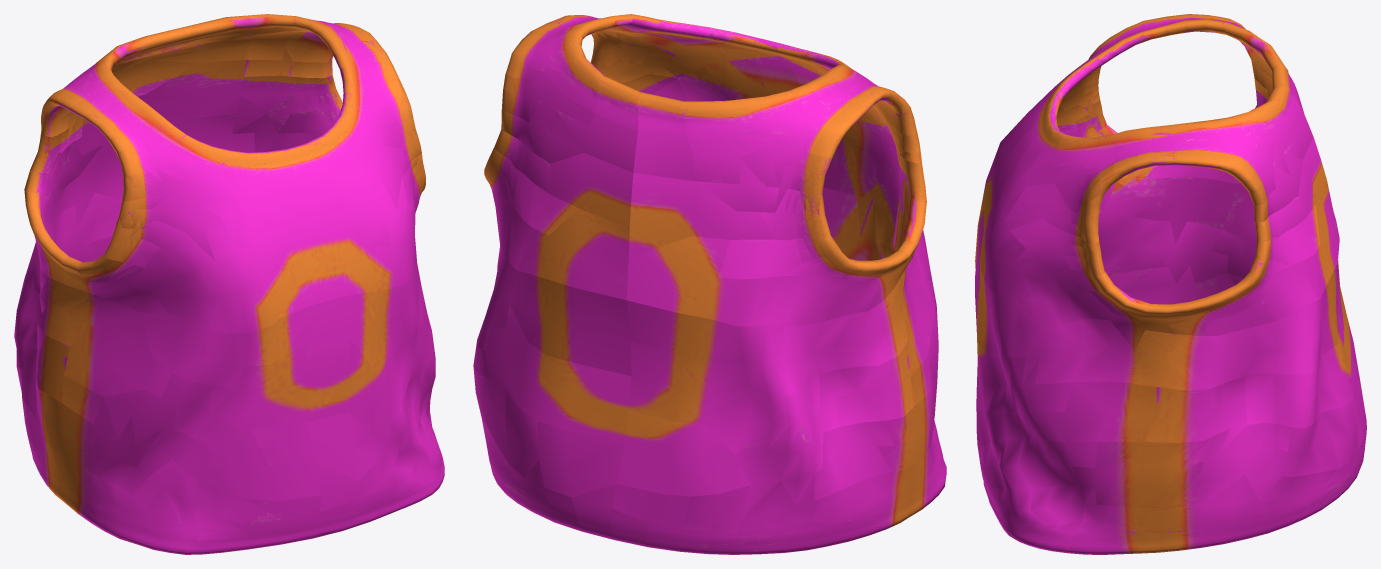
Rendered from Warmup-Pink-Orange.glb.
The picture shows the model from 3 angles, left to right: view 1: azimuth 30°, elevation 25°; view 2: azimuth 150°, elevation 25°; view 3: azimuth 270°, elevation 25°; orthographic projection. The views are drawn at different scales.
Parts seen in each view (by area): view 1: Warmup-Pink-Orange; view 2: Warmup-Pink-Orange; view 3: Warmup-Pink-Orange.
Part boxes in pixels (<box>): Warmup-Pink-Orange: <box>14,14,444,554</box>; Warmup-Pink-Orange: <box>473,14,946,554</box>; Warmup-Pink-Orange: <box>975,14,1366,554</box>.
Size of the model in its own units: 0.3436 by 0.364 by 0.316.
Materials: 1 (1 with a texture image).
